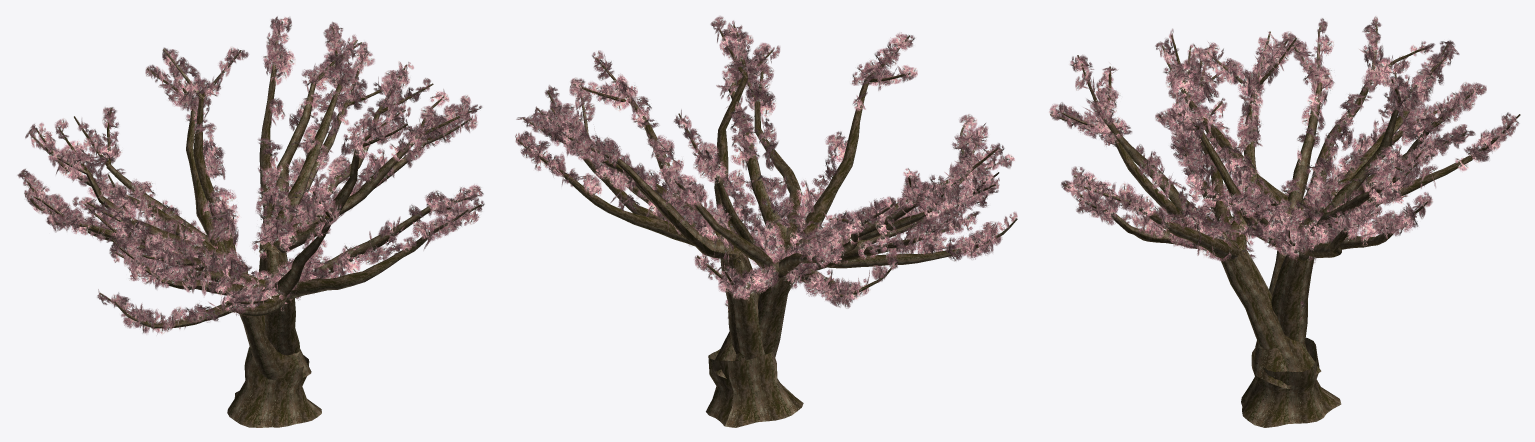
The model's file is blossom_3x_2.glb.
3 views of the same model, side by side, from view 1: azimuth 30°, elevation 25°; view 2: azimuth 150°, elevation 25°; view 3: azimuth 270°, elevation 25° (orthographic). The views are drawn at different scales.
Visible parts, largest first — view 1: blossom; view 2: blossom; view 3: blossom.
Boxes of the visible parts, x1,y1,x2,y2 form: blossom: [17, 16, 484, 427]; blossom: [515, 16, 1017, 427]; blossom: [1049, 16, 1520, 427].
Bounding box in the file's own units: 56.77 × 41.68 × 52.07.
2 materials, 2 textured.
